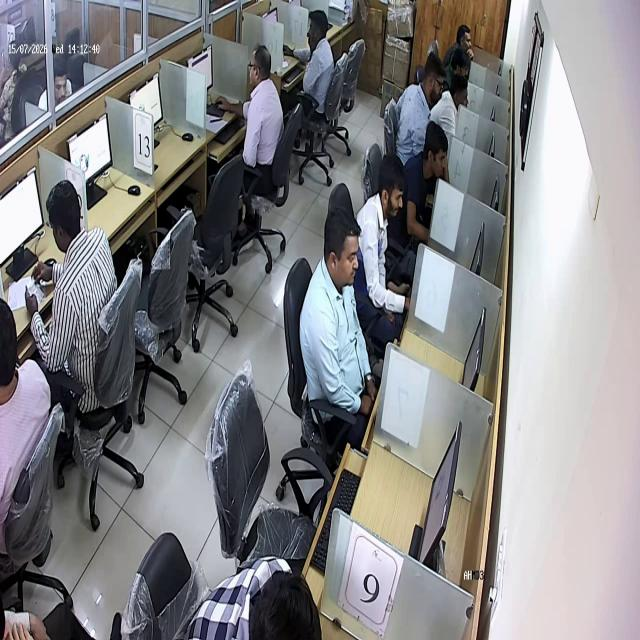paper-chit: (24, 274, 52, 308)
